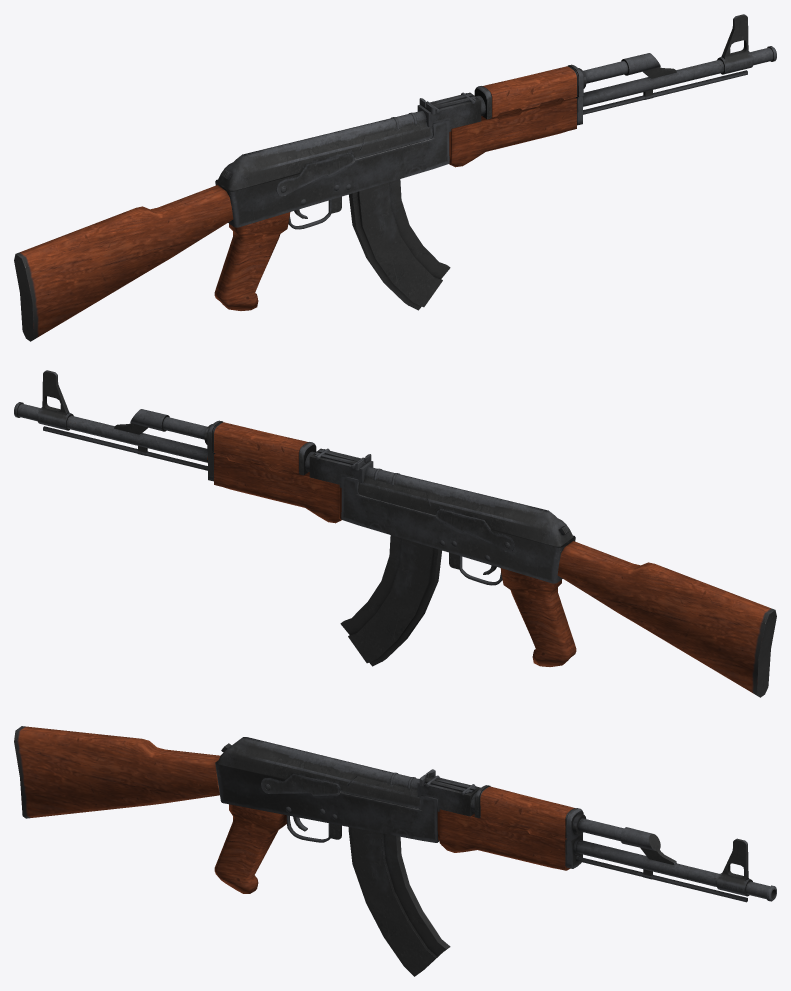
The picture shows the model from 3 angles, top to bottom: view 1: azimuth 30°, elevation 25°; view 2: azimuth 150°, elevation 25°; view 3: azimuth 330°, elevation 25°; orthographic projection.
Visible parts, largest first — view 1: AK-47; view 2: AK-47; view 3: AK-47.
Boxes of the visible parts, x1,y1,x2,y2 form: AK-47: [14, 14, 776, 341]; AK-47: [14, 370, 776, 697]; AK-47: [14, 726, 776, 976].
Bounding box in the file's own units: 87.15 × 23.63 × 3.34.
1 material, 1 textured.
